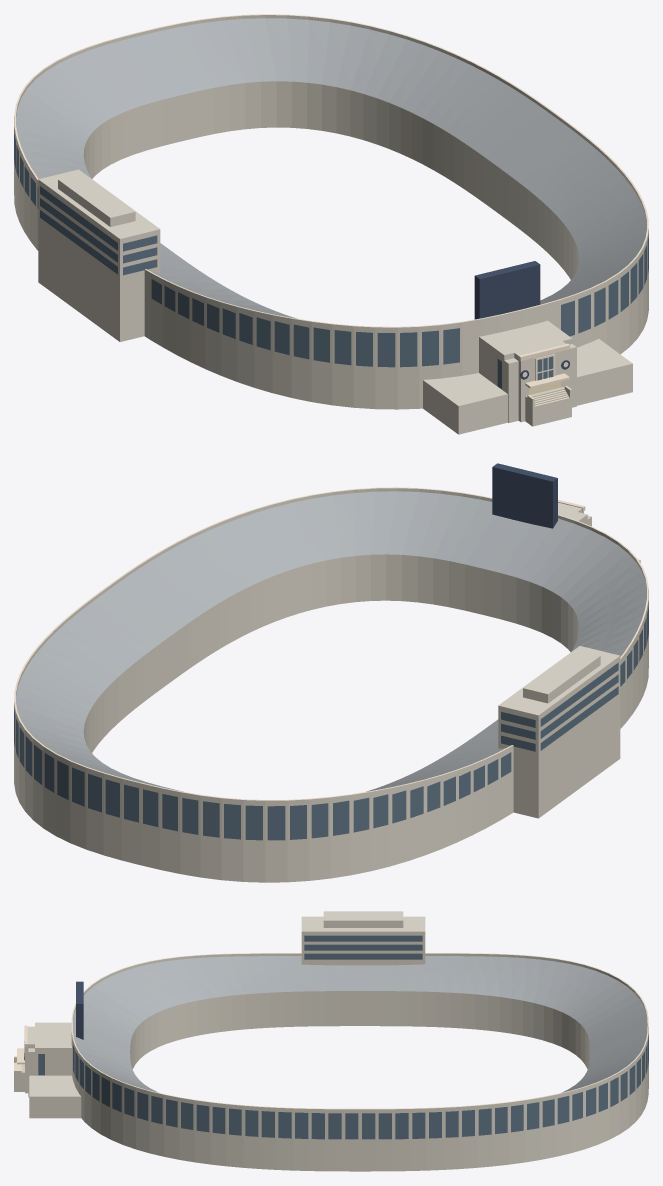
Rendered from dal-cotton-bowl.glb.
The picture shows the model from 3 angles, top to bottom: view 1: azimuth 30°, elevation 25°; view 2: azimuth 150°, elevation 25°; view 3: azimuth 270°, elevation 25°; orthographic projection. The views are drawn at different scales.
Parts seen in each view (by area): view 1: Cotton Bowl Stadium; view 2: Cotton Bowl Stadium; view 3: Cotton Bowl Stadium.
Part boxes in pixels (bbox=[...]): Cotton Bowl Stadium: bbox=[14, 14, 648, 434]; Cotton Bowl Stadium: bbox=[14, 463, 648, 882]; Cotton Bowl Stadium: bbox=[14, 911, 648, 1171].
Bounding box in the file's own units: 189 × 45.5 × 287.
